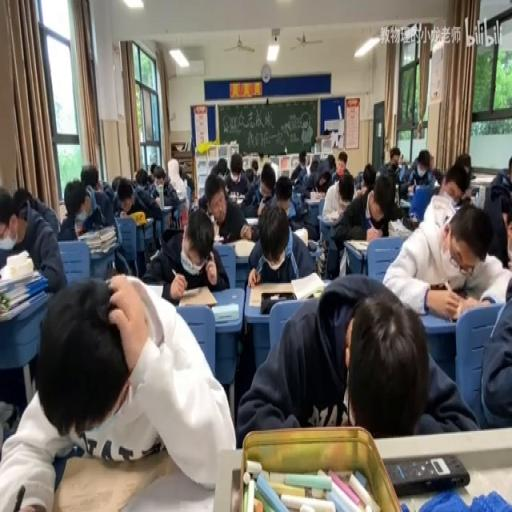calculator: (428, 286, 466, 321), (248, 279, 294, 307), (290, 268, 326, 298), (177, 286, 217, 307), (214, 236, 252, 258), (212, 300, 238, 322), (387, 216, 412, 236), (345, 239, 369, 253), (293, 225, 308, 243), (322, 209, 341, 222), (0, 233, 14, 250), (472, 174, 494, 184), (291, 188, 302, 205), (304, 196, 322, 206), (211, 233, 224, 245), (228, 192, 245, 201), (174, 189, 185, 201), (245, 216, 258, 225), (469, 186, 478, 195), (400, 198, 410, 204), (142, 218, 152, 223)
paper: (3, 273, 231, 511), (237, 269, 473, 441), (381, 196, 509, 317), (0, 185, 64, 294), (58, 176, 125, 279), (246, 196, 316, 282), (474, 273, 511, 431), (331, 171, 379, 253), (198, 172, 251, 245), (483, 154, 512, 258), (127, 171, 168, 240), (298, 156, 335, 220), (403, 146, 435, 192), (382, 145, 403, 182), (181, 170, 196, 218), (288, 151, 307, 186), (12, 186, 32, 218), (452, 151, 470, 186), (258, 162, 274, 199), (80, 164, 99, 192), (360, 164, 376, 192), (166, 158, 180, 190), (134, 166, 148, 186), (230, 154, 242, 176), (118, 194, 132, 210), (316, 176, 330, 192), (217, 156, 228, 174), (110, 174, 121, 192), (153, 171, 165, 186), (326, 154, 335, 172), (244, 168, 254, 182), (338, 154, 347, 168), (149, 161, 157, 176), (178, 164, 186, 179), (310, 158, 316, 173), (508, 155, 512, 176), (300, 158, 306, 166)
person: (384, 452, 470, 496), (224, 232, 235, 243), (308, 239, 318, 250)
